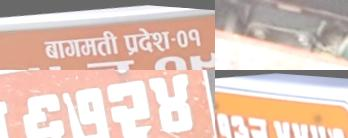0: (173, 24, 190, 47)
1: (148, 46, 192, 70), (215, 107, 235, 138), (184, 22, 203, 47)
2: (103, 70, 155, 138), (0, 62, 31, 70)
3: (228, 110, 252, 138)
4: (144, 70, 204, 138), (270, 115, 297, 138), (289, 116, 315, 138)
5: (25, 59, 68, 70), (307, 120, 332, 138)
6: (10, 82, 70, 138)
7: (59, 76, 114, 138), (215, 26, 237, 70), (293, 51, 338, 70), (325, 122, 348, 138)
9: (184, 43, 215, 70)
ba: (41, 35, 66, 62), (215, 106, 220, 138)
cha: (81, 49, 141, 70), (0, 91, 21, 138), (245, 111, 273, 138)
pa: (234, 36, 277, 70)
